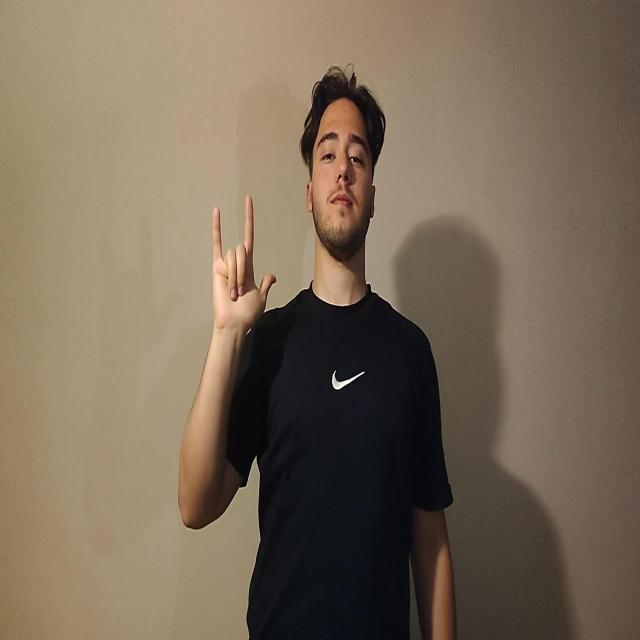iloveyou: (211, 193, 276, 335)
